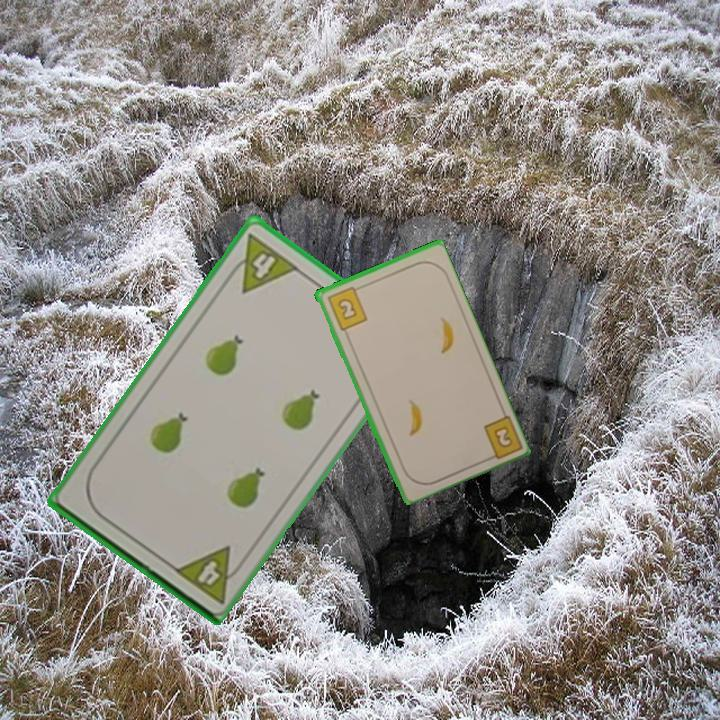2b: (323, 283, 370, 333), (480, 410, 523, 464)
4p: (221, 229, 301, 296), (169, 542, 249, 606)
